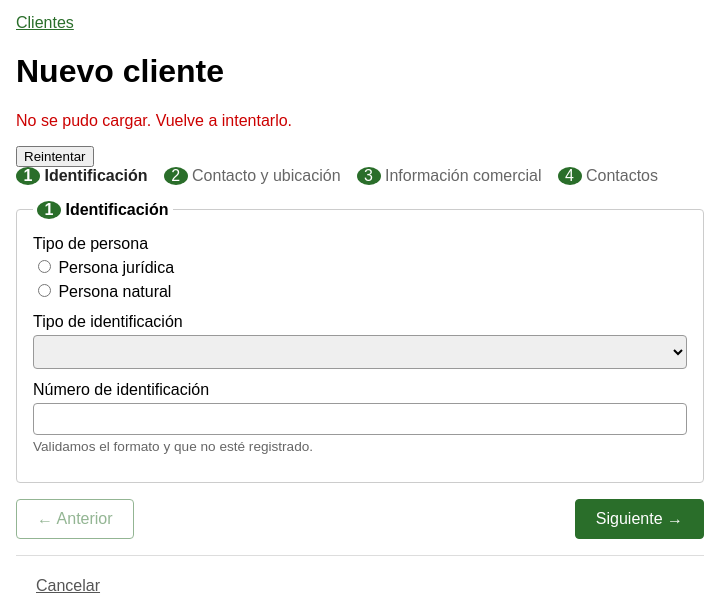
Test: CustomerNewComponent (/nuevo-prospecto) › estados de la pantalla › AC-17 — si la carga falla muestra «No se pudo cargar. Vuelve a intentarlo.» y «Reintentar» vuelve a pedir
The width and height of the screenshot is (721, 610).
What coordinates should you click on to do the following:
click the button "Reintentar"
I would click on:
 (55, 156)
Its box is left=16, top=146, right=94, bottom=167.
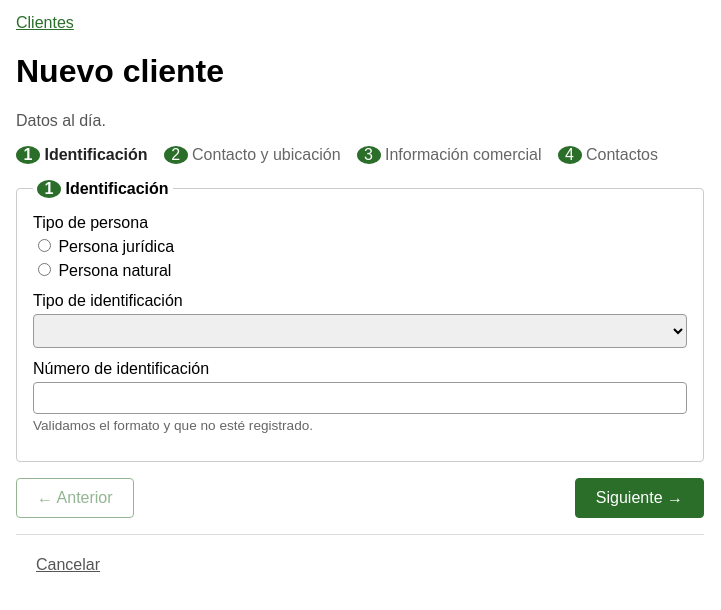
Expected: the message with class "estado-error" is gone
Expected: the message with class "estado-al-dia" reads "Datos al día.", left=16, top=112, right=106, bottom=129
